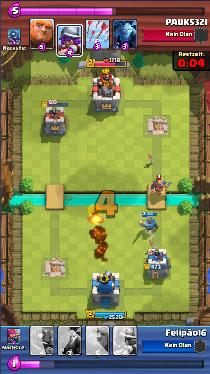ally_fireball: (84, 204, 104, 225)
ally_knight: (138, 216, 159, 234)
enemy_knight: (151, 177, 170, 193)
